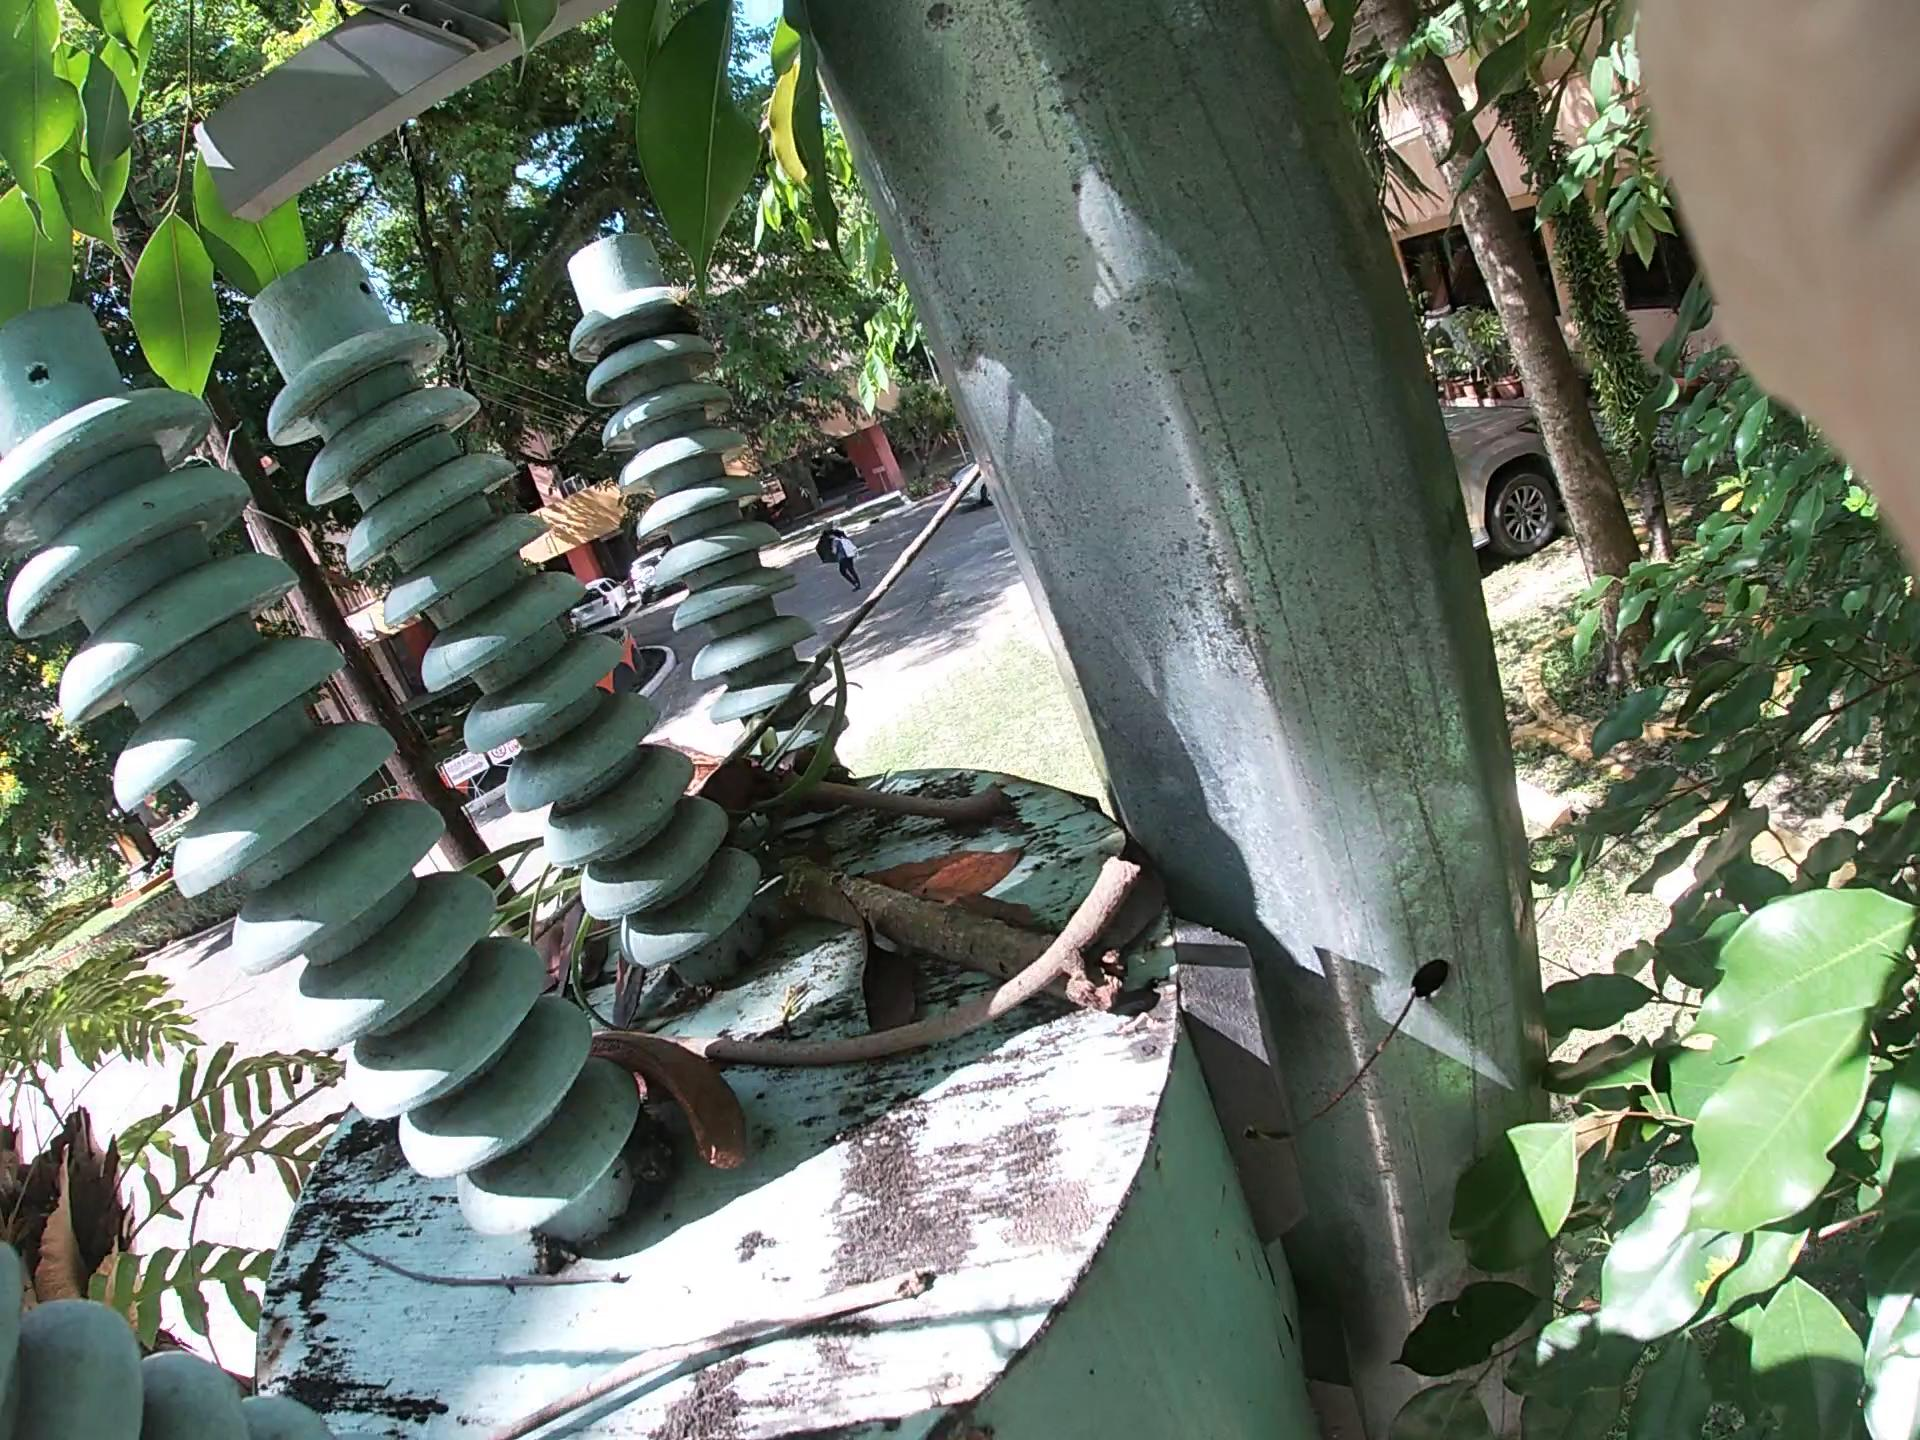branch with leaves: (68, 483, 990, 1331)
leaf: (844, 782, 1002, 1019)
mahogany fruit: (585, 1004, 859, 1186)
tree branch: (683, 746, 1281, 1137), (444, 1095, 1119, 1420), (559, 666, 1150, 843)
